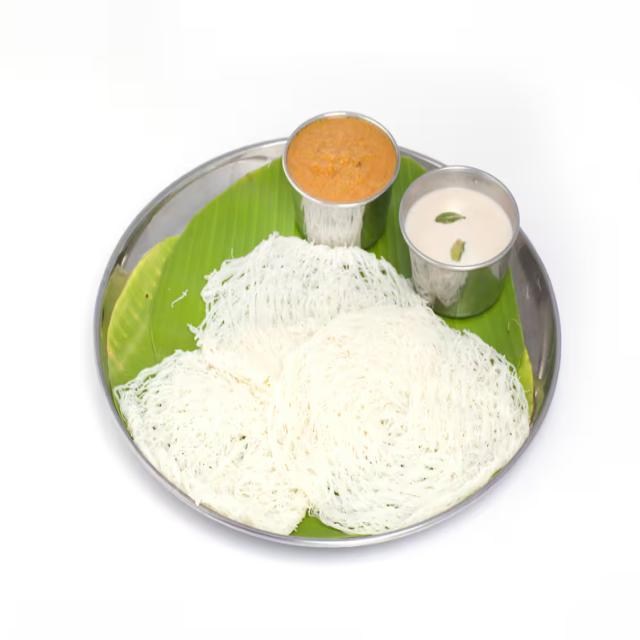IDIYAPPAM: (108, 234, 540, 538)
KURMA: (284, 107, 393, 214)
SWEET: (390, 158, 520, 304)
